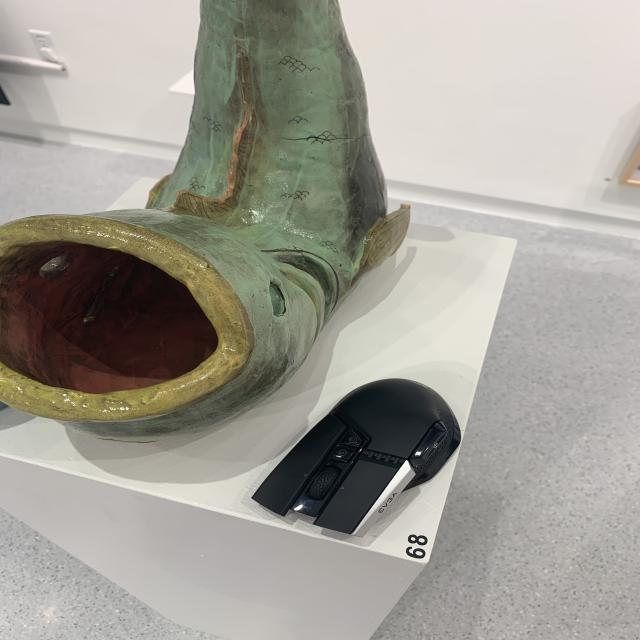Mouse: (246, 374, 471, 543)
